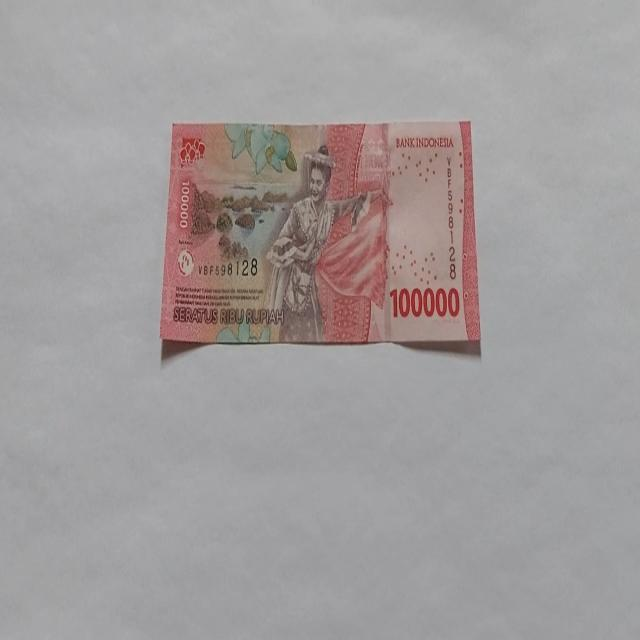seratus ribu rupiah: (158, 120, 482, 350), (260, 143, 374, 343)
